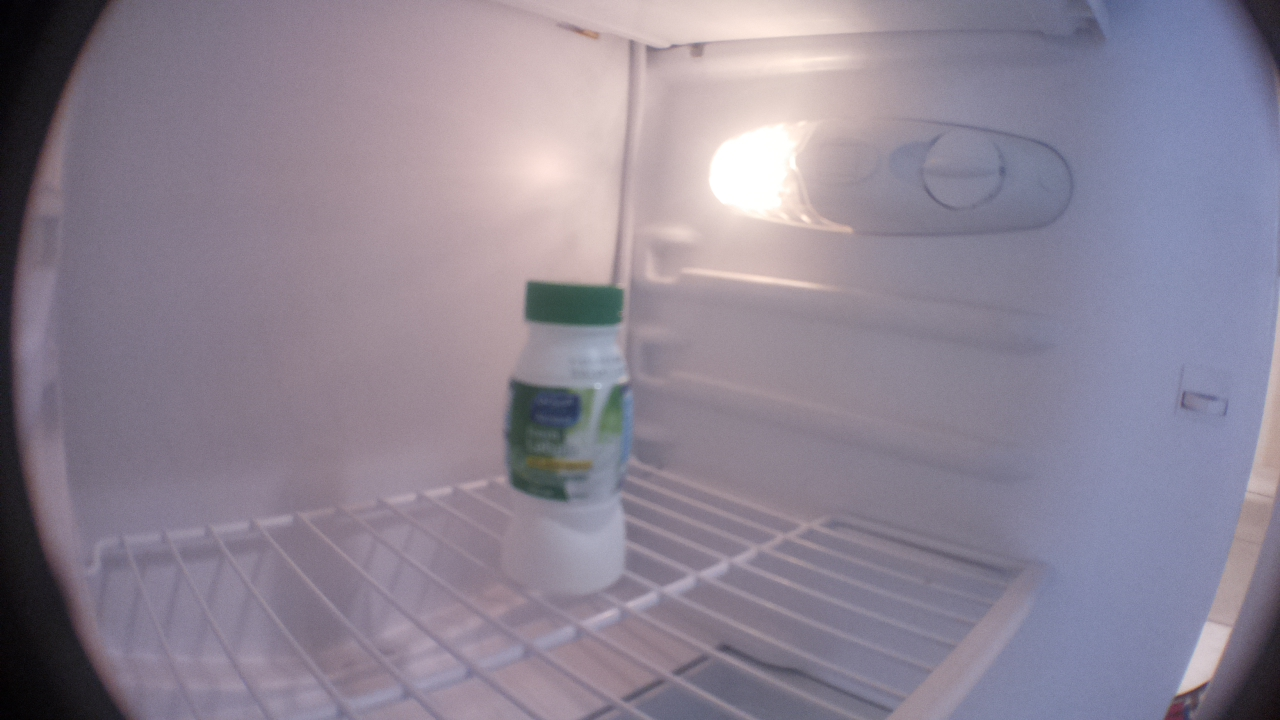laban: (502, 280, 630, 600)
